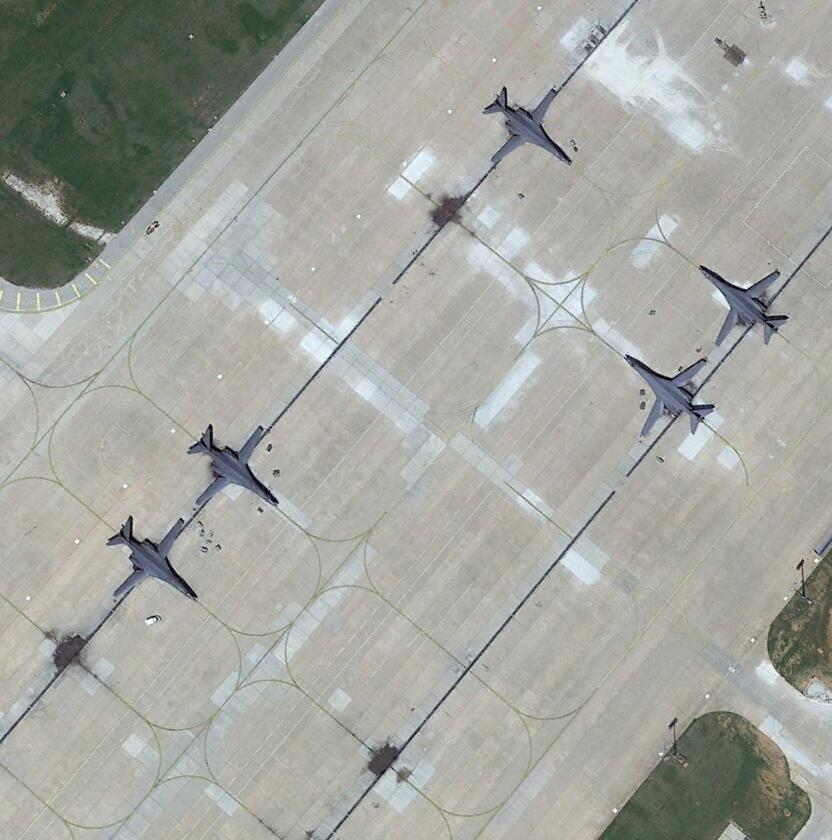A10: (185, 418, 284, 510), (620, 352, 716, 443), (485, 80, 574, 178), (695, 258, 791, 346), (103, 515, 196, 601)
